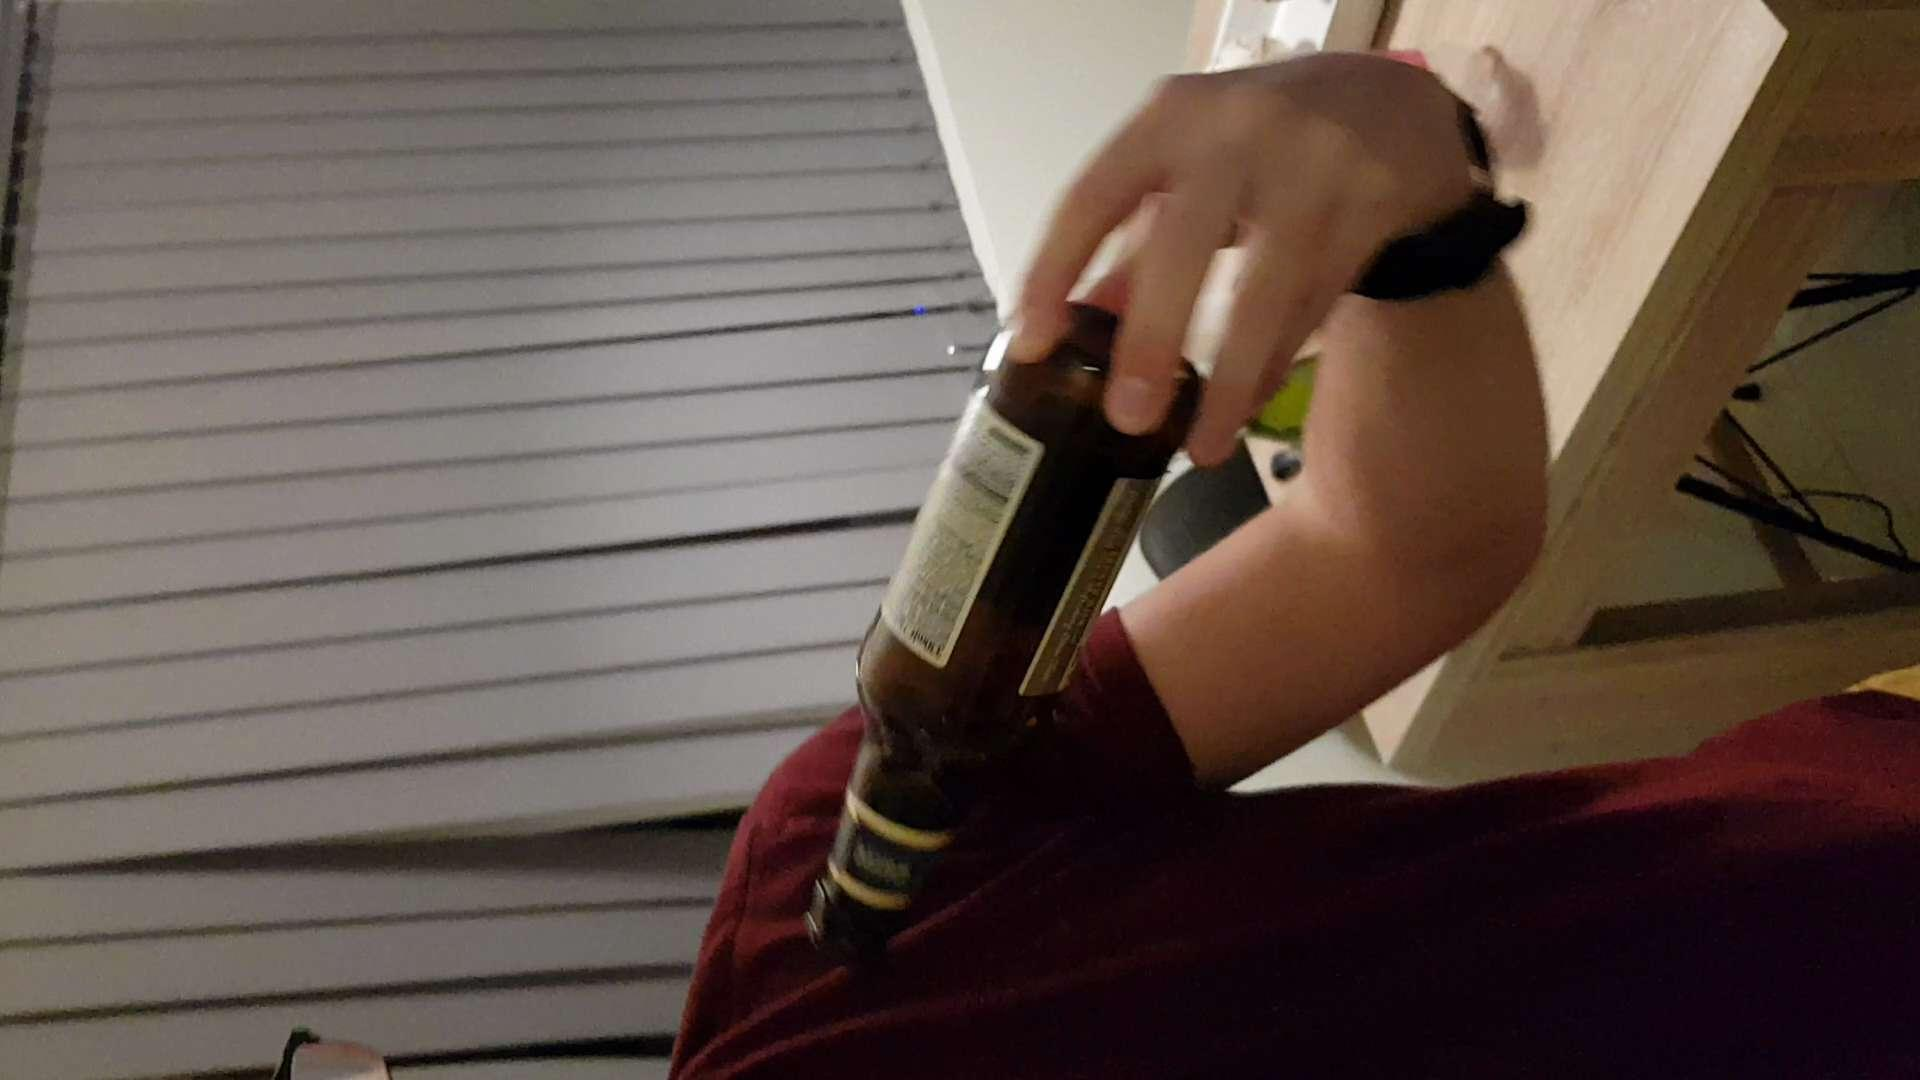Bottle: (782, 293, 1174, 961)
